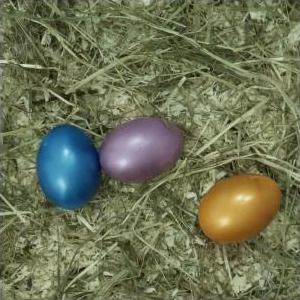egg: (198, 173, 282, 243), (100, 118, 184, 182), (38, 124, 100, 210)
